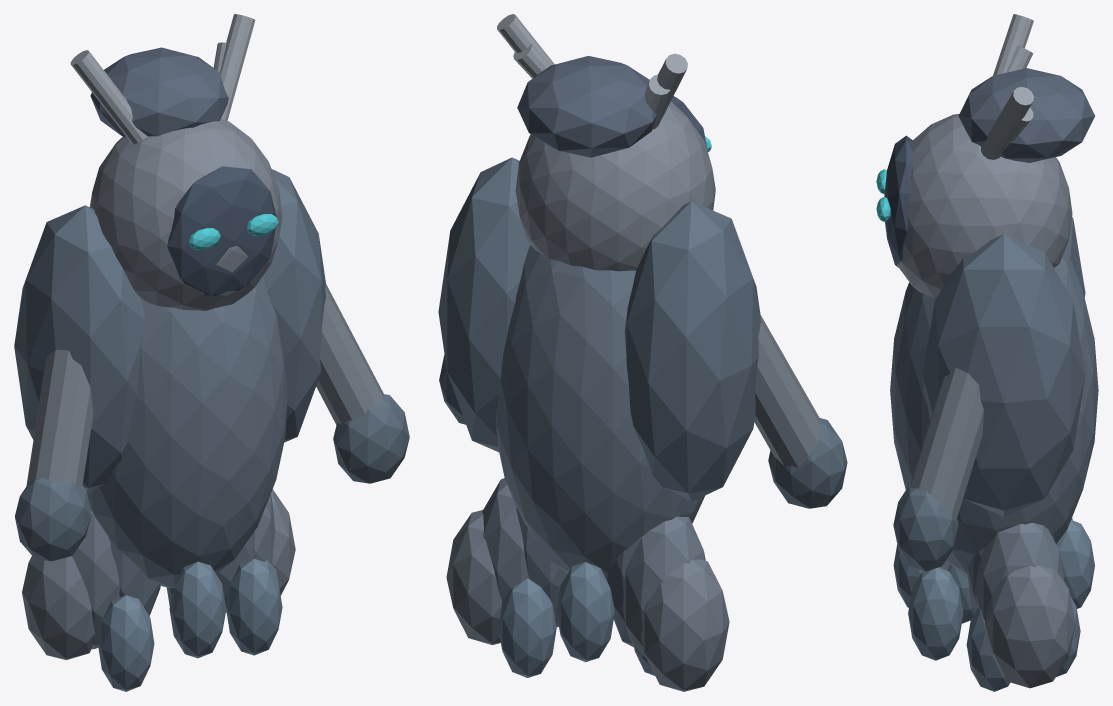
File: crypt-specter.glb
3 views of the same model, side by side, from view 1: azimuth 30°, elevation 25°; view 2: azimuth 150°, elevation 25°; view 3: azimuth 270°, elevation 25° (orthographic). The views are drawn at different scales.
Parts seen in each view (by area): view 1: world; view 2: world; view 3: world.
Part boxes in pixels (x1,y1,x2,y2): world: (14,14,409,691); world: (438,14,847,691); world: (876,14,1098,691).
Bounding box in the file's own units: 1.34 × 2.05 × 0.682.
